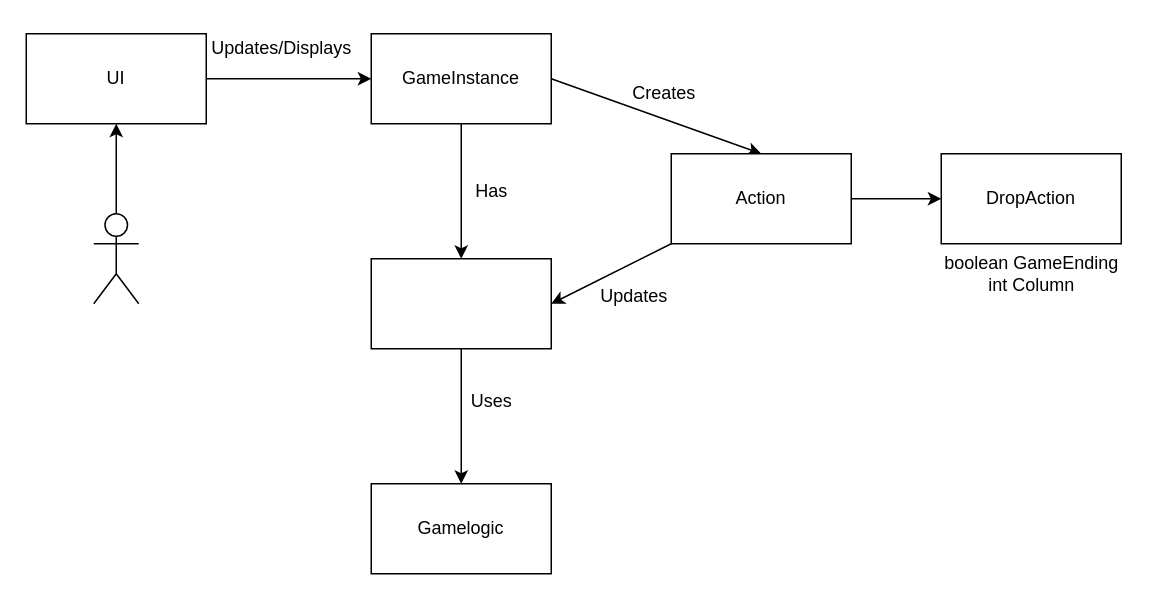
Image size: 1163x600. Some labels were removed from this diagram. Here are the shapes that lost their labels. From the top down, the centre of each, then its label:
(x=115, y=258): Users
(x=460, y=303): Gameboard
